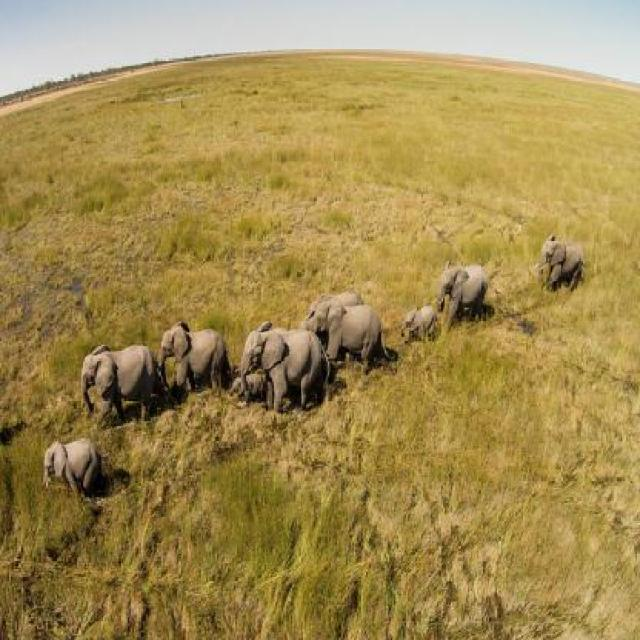elephant: (238, 306, 319, 411), (154, 318, 238, 392), (74, 339, 163, 408), (44, 428, 104, 504), (439, 254, 499, 328), (317, 310, 392, 365), (298, 282, 362, 335), (534, 227, 589, 282), (396, 299, 436, 346), (226, 373, 259, 418)
